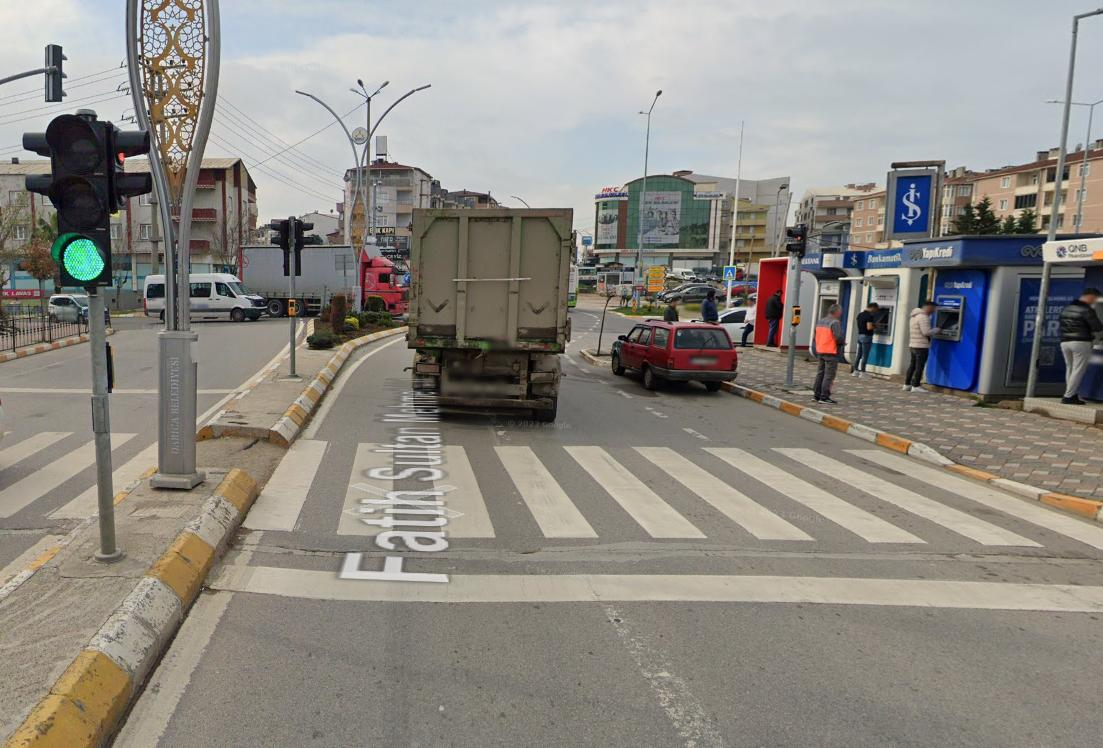greenlight: (52, 115, 114, 280)
